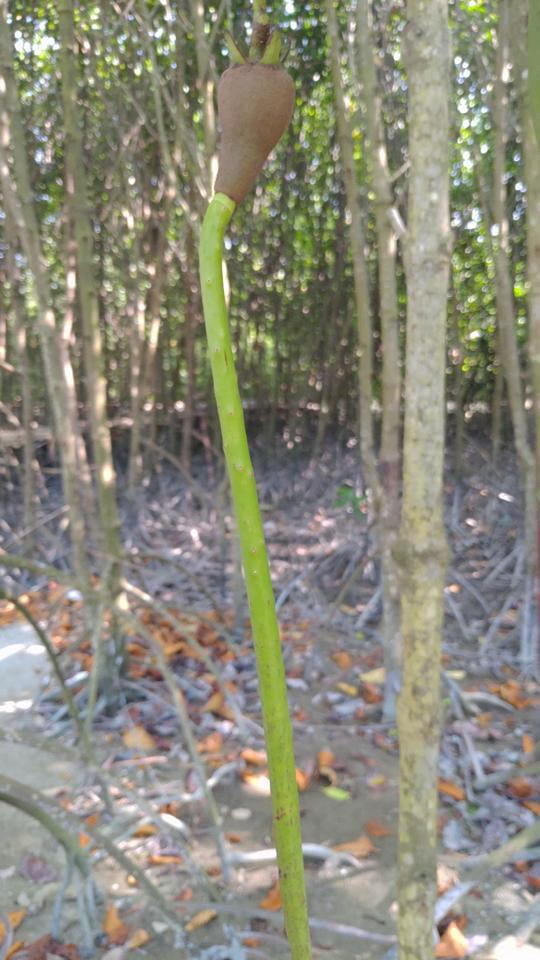setengah matang: (189, 19, 326, 959)
